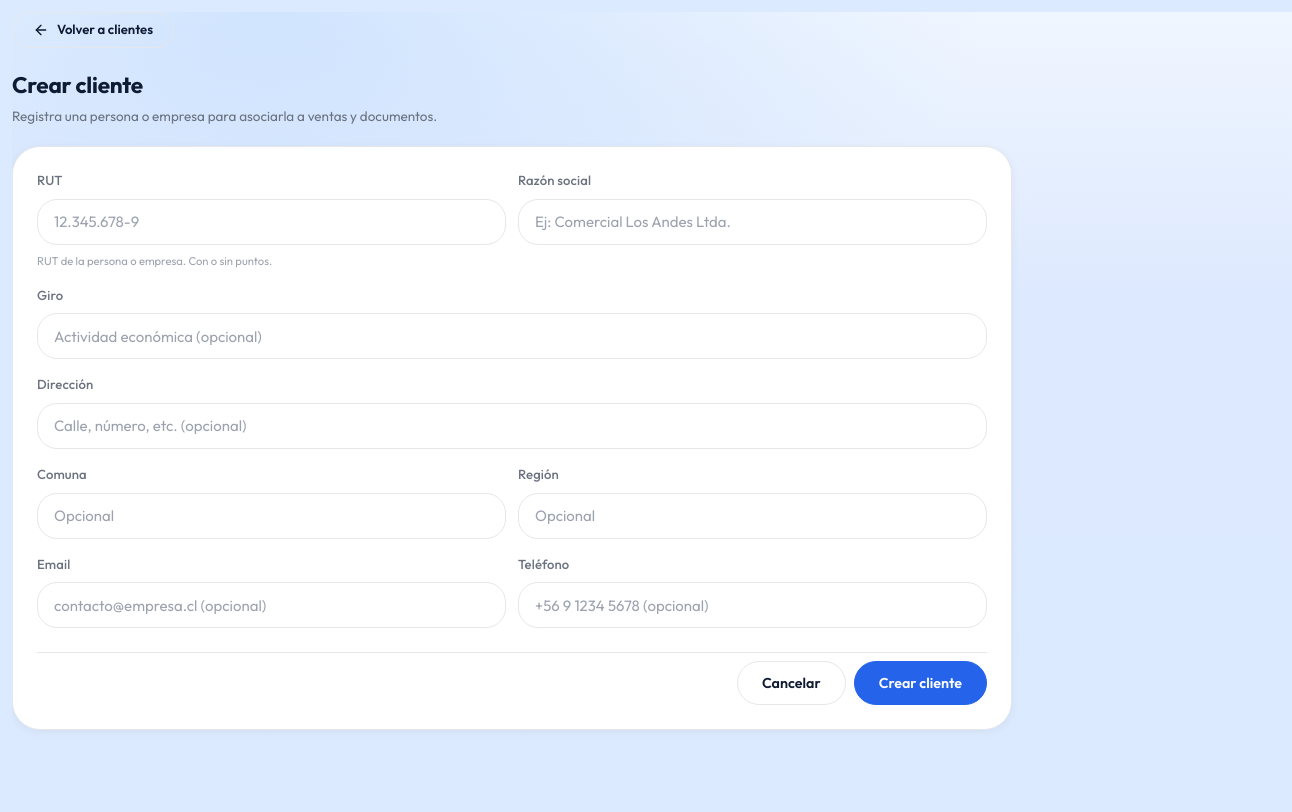
Scenario: EditarClientePage (crear) › envía el body con datos válidos (RUT canónico)
Type "12345678-5" into the field labelled "RUT" at (272, 222), box [38,200,505,244]
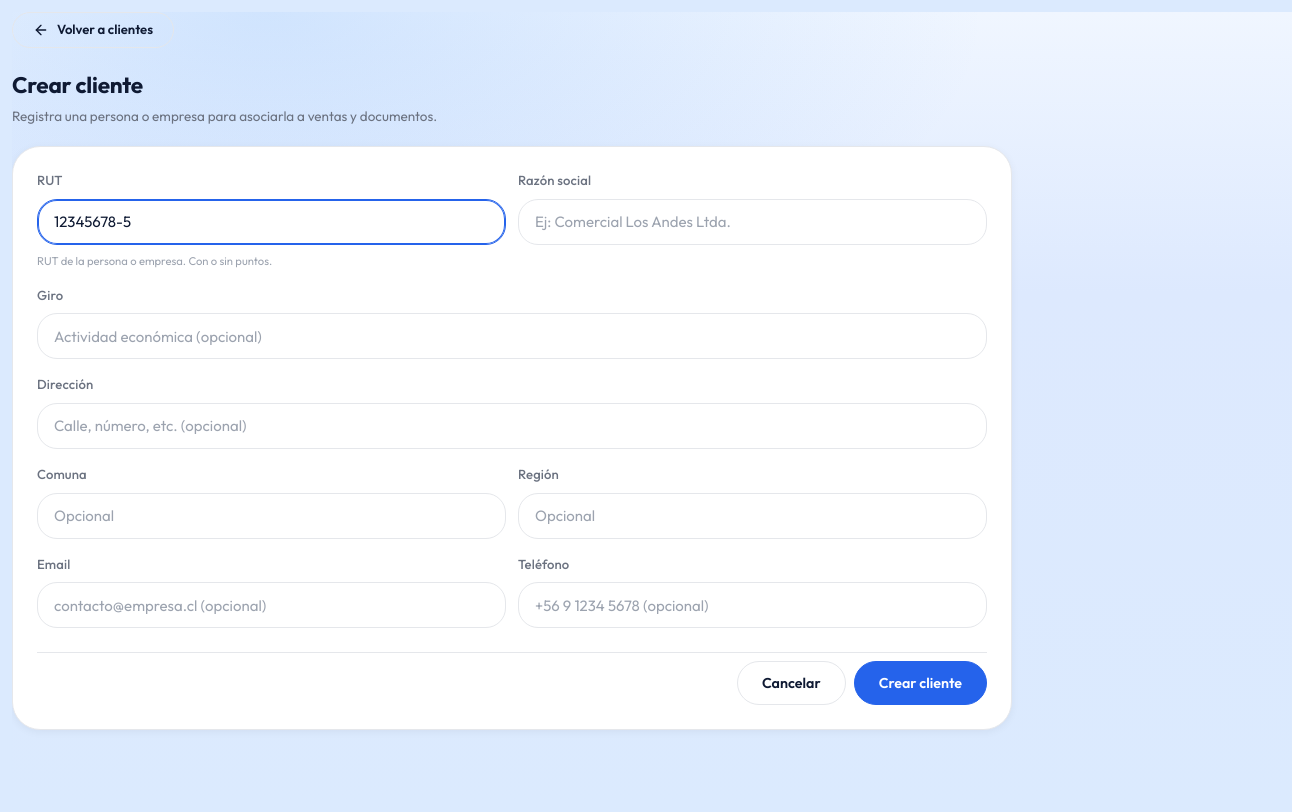
Type "Acme SpA" into the field labelled "Razón social" at (752, 222), box [519,200,986,244]
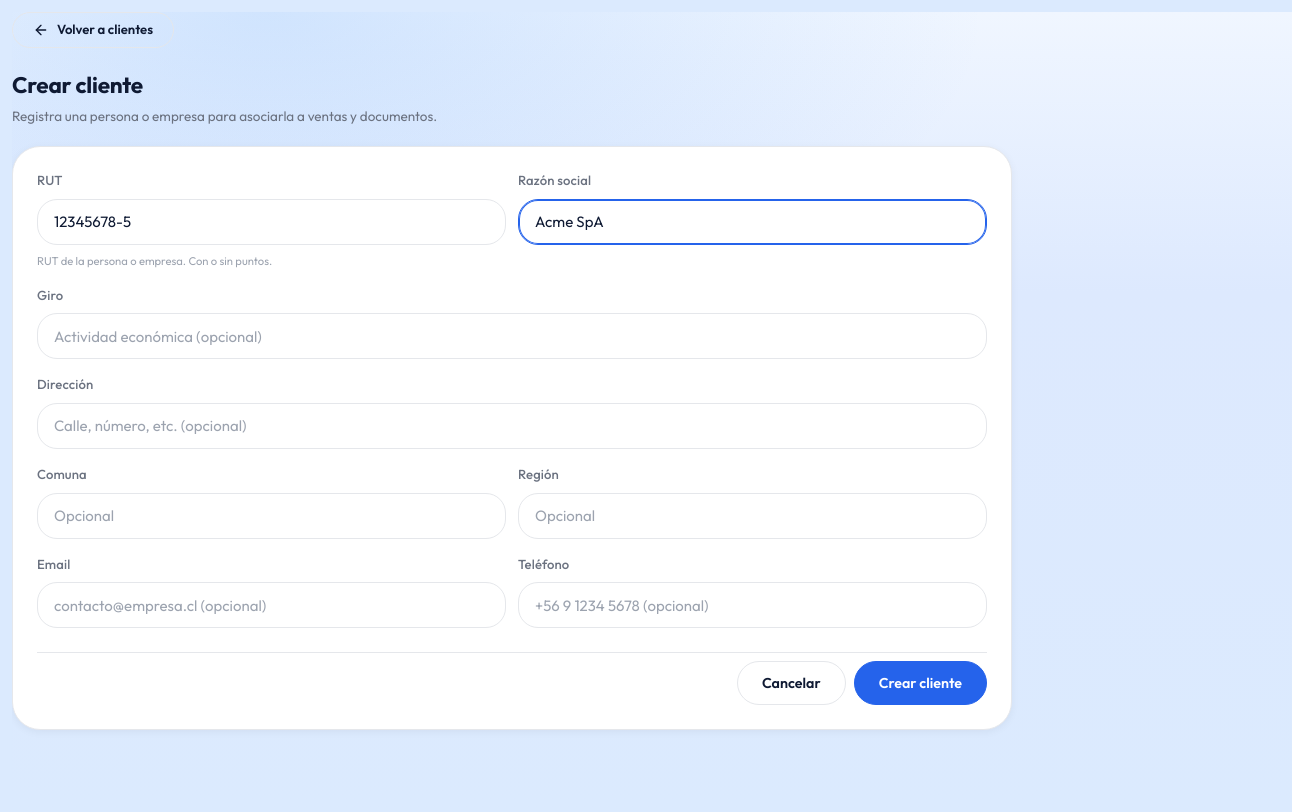
Click the button "Crear cliente" at (920, 683), box [854,661,987,705]
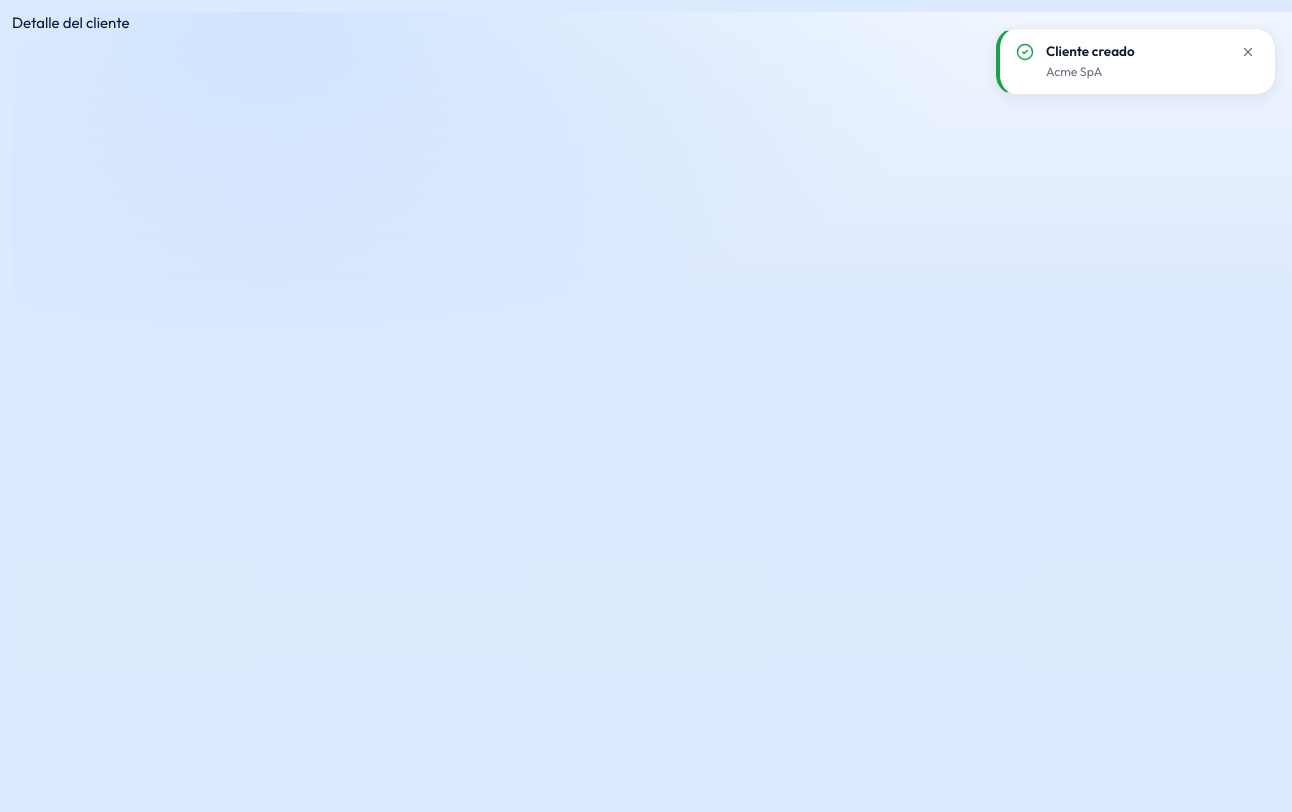
Expected: the text "Detalle del cliente" is shown, [12,13,130,32]
